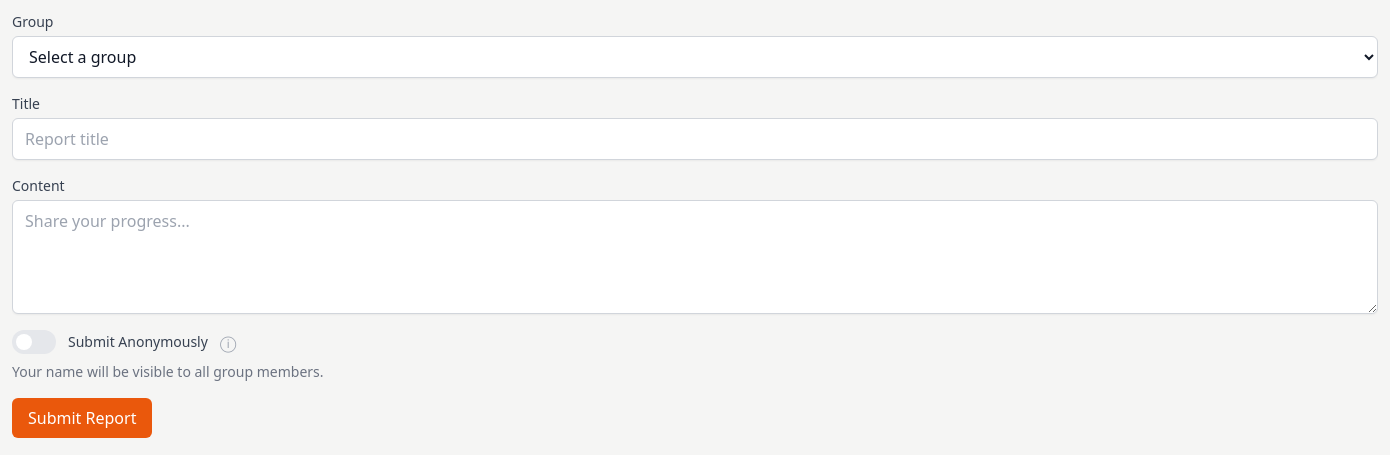
Test: CreateReportForm › should show loading state while submitting
The width and height of the screenshot is (1390, 455).
Select "Fitness Group" in the dropdown labelled "Group" at (695,57), box [12, 36, 1378, 78]
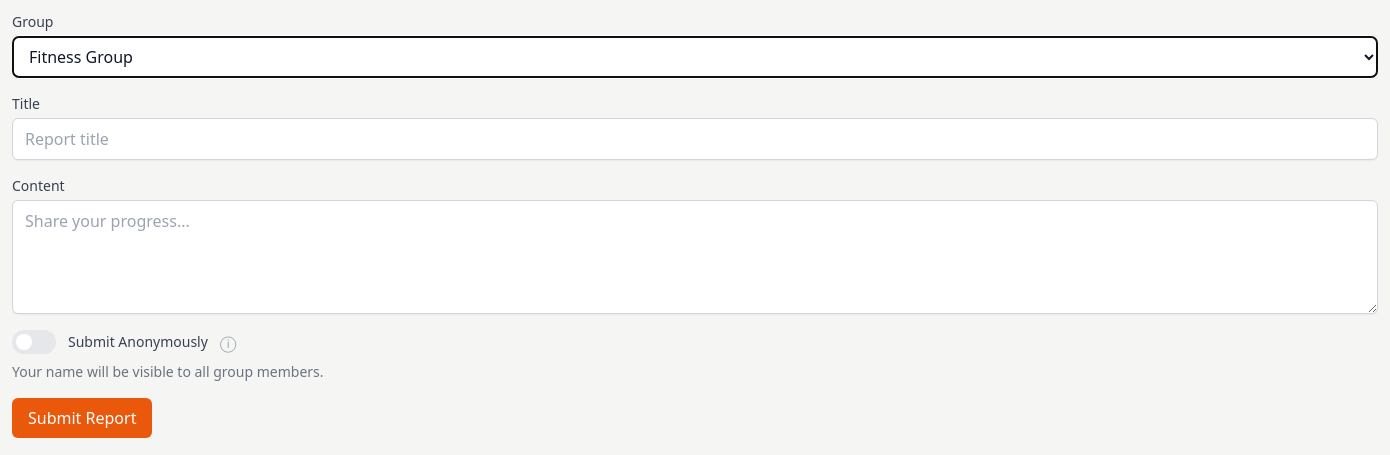
Type "Test" into the field labelled "Title" at (695,139), box [12, 118, 1378, 160]
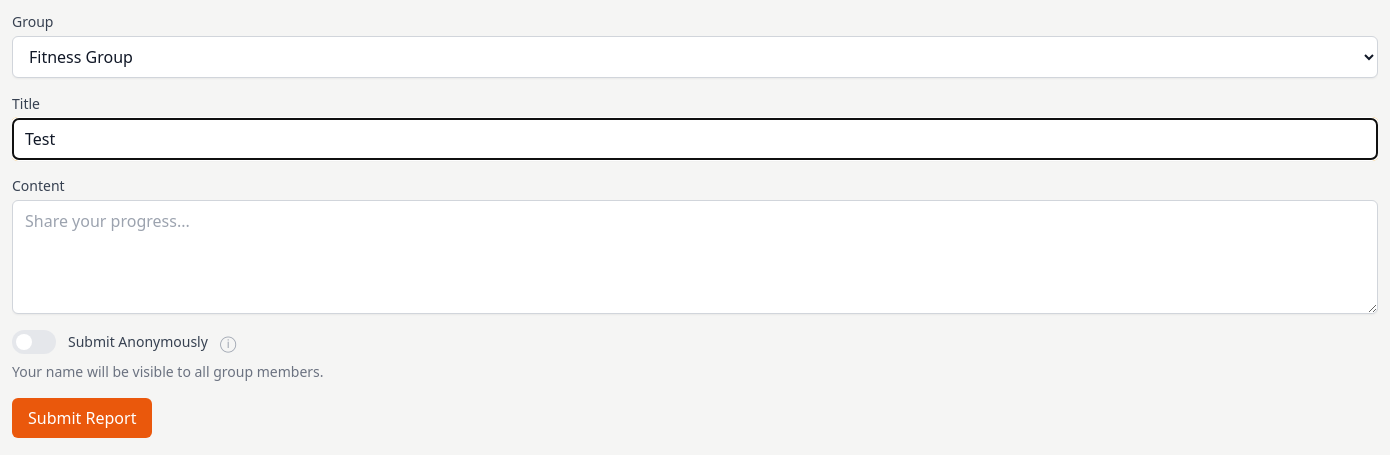
Type "Content" into the text box labelled "Content" at (695,257), box [12, 200, 1378, 314]
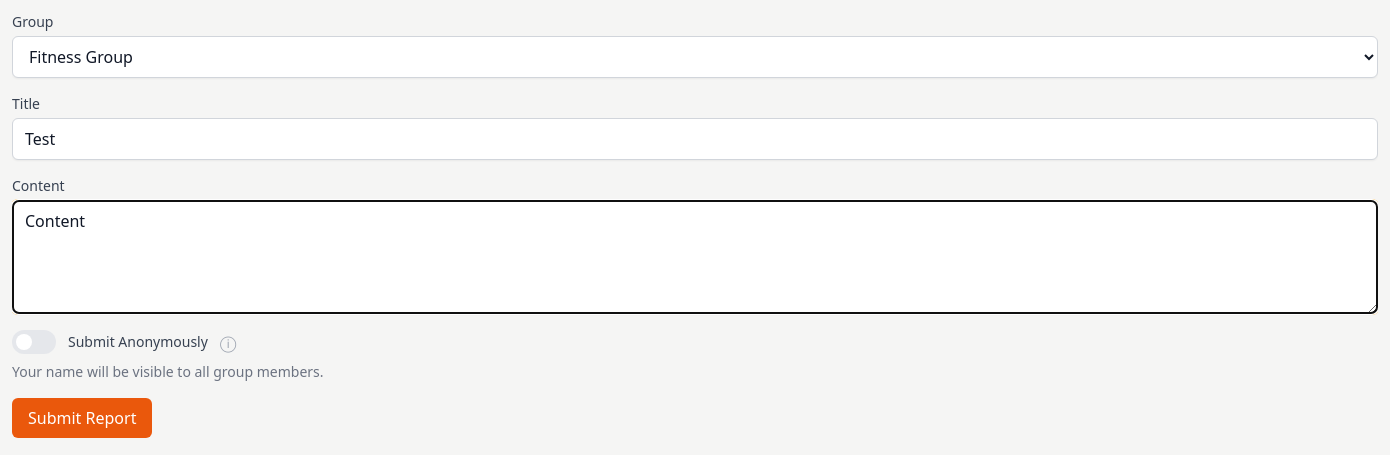
Click the button "Submit Report" at (82,418), box [12, 398, 152, 438]
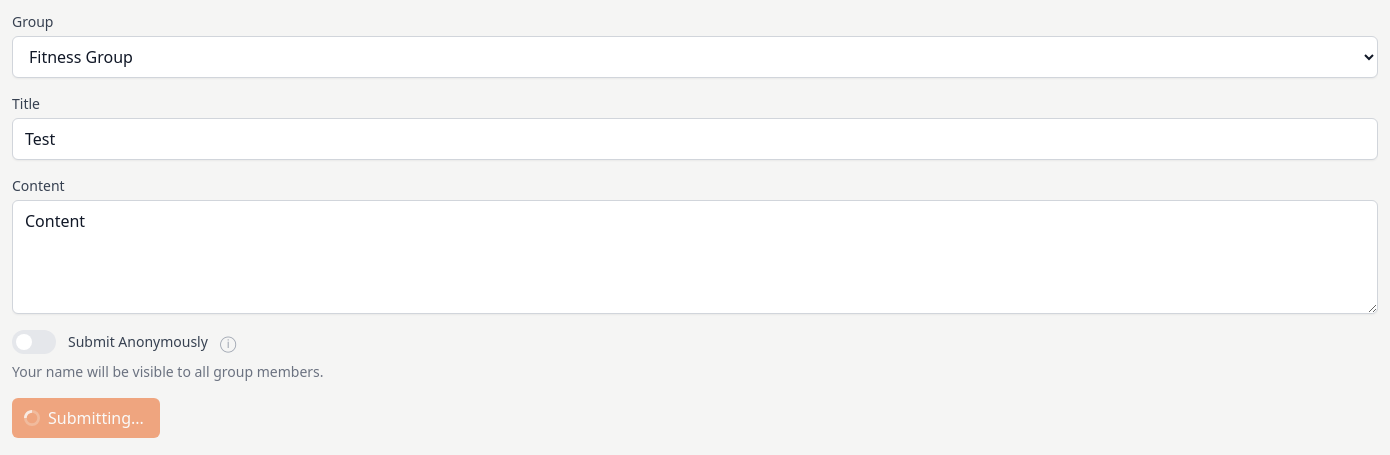
Result: the button "Submitting..." is disabled at [12, 398, 160, 438]
